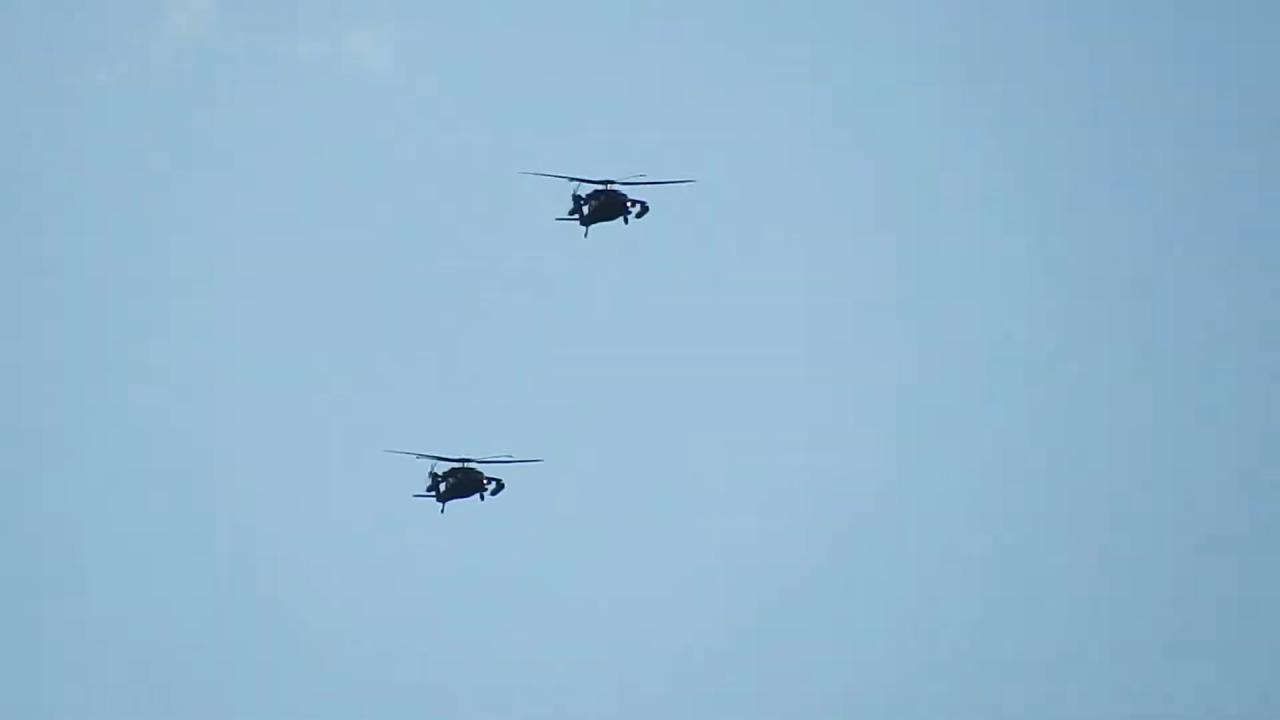Helicopter: (518, 160, 710, 248), (379, 434, 553, 525)
